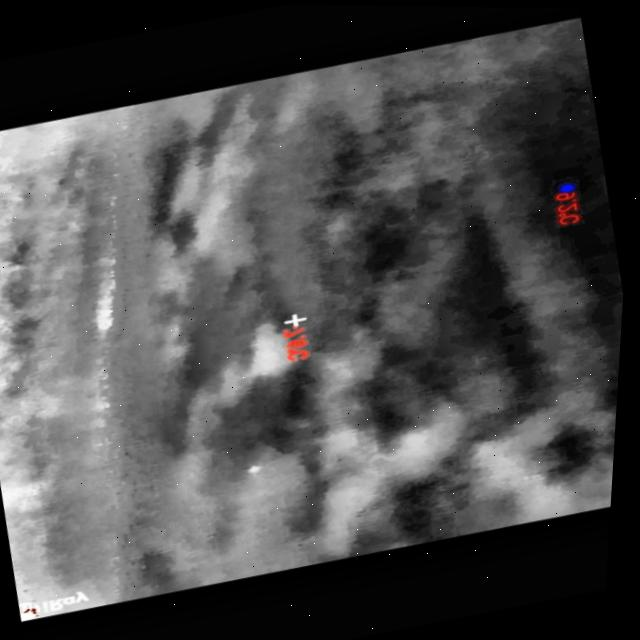drone: (248, 461, 268, 474)
